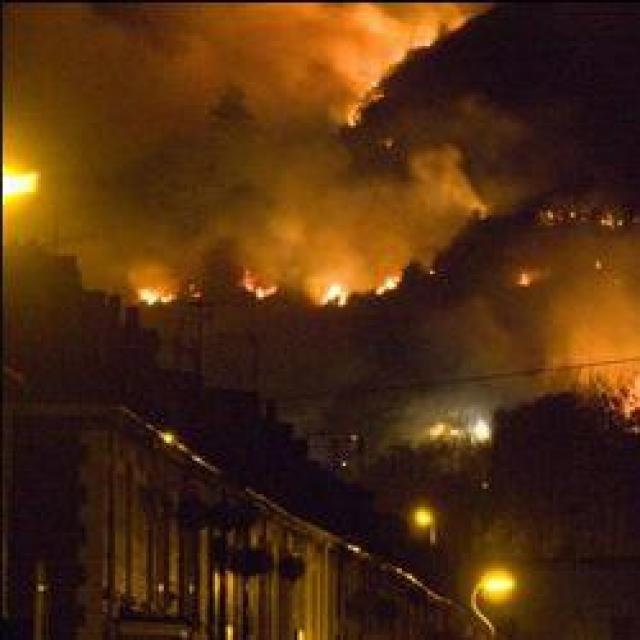fire: (131, 254, 441, 344), (0, 146, 46, 220)
